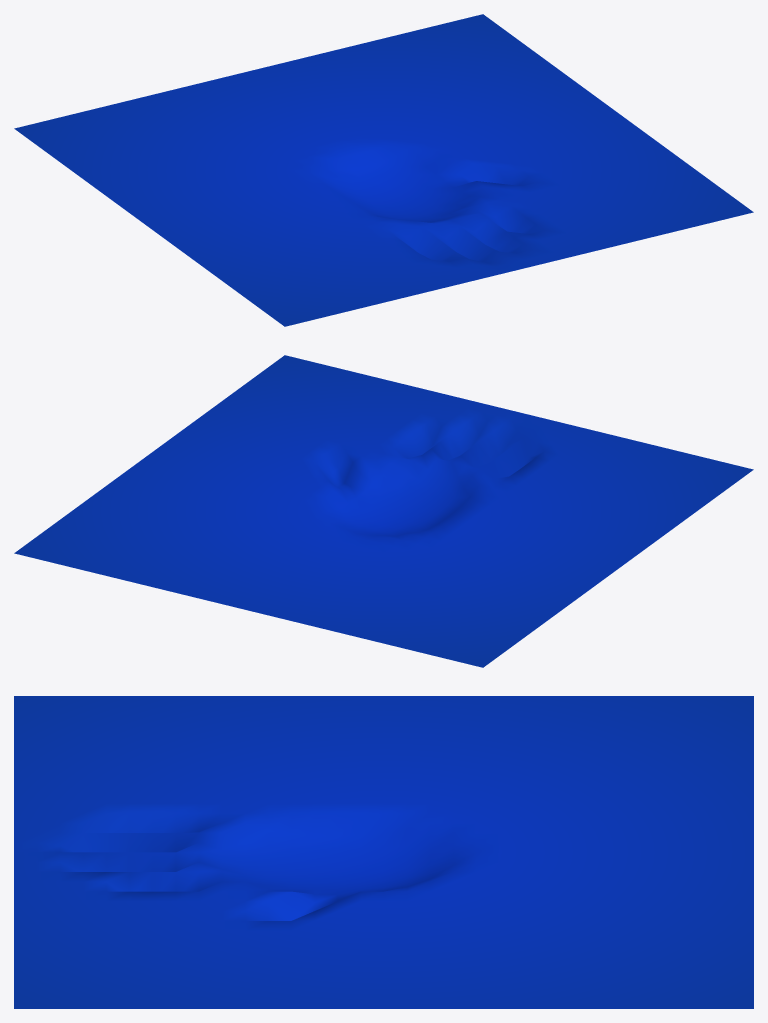
File: hand_print.glb
3 renders of one model, top to bottom at view 1: azimuth 30°, elevation 25°; view 2: azimuth 150°, elevation 25°; view 3: azimuth 270°, elevation 25°, orthographic. The views are drawn at different scales.
Visible parts, largest first — view 1: hand_print; view 2: hand_print; view 3: hand_print.
Boxes of the visible parts, box(x1,y1,x2,y2) form: hand_print: box(14, 14, 753, 326); hand_print: box(14, 355, 753, 667); hand_print: box(14, 696, 753, 1008).
Size of what is drawn, in the model's own units: 0.44 by 0.014 by 0.44.
